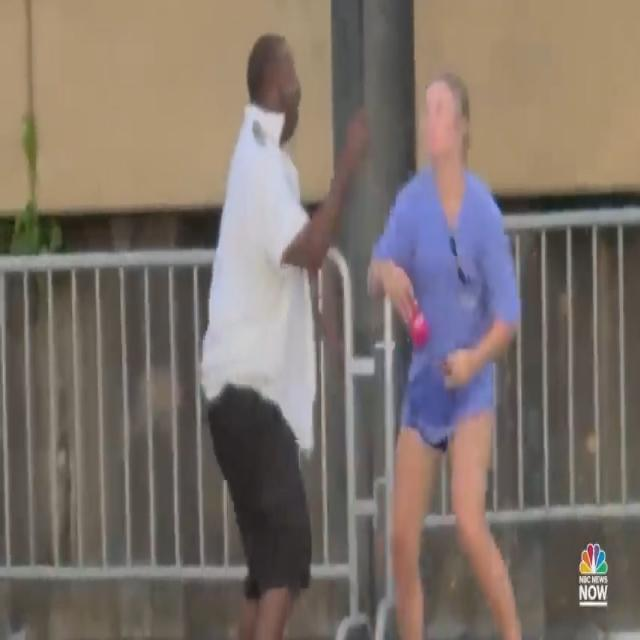fight: (190, 1, 538, 640)
